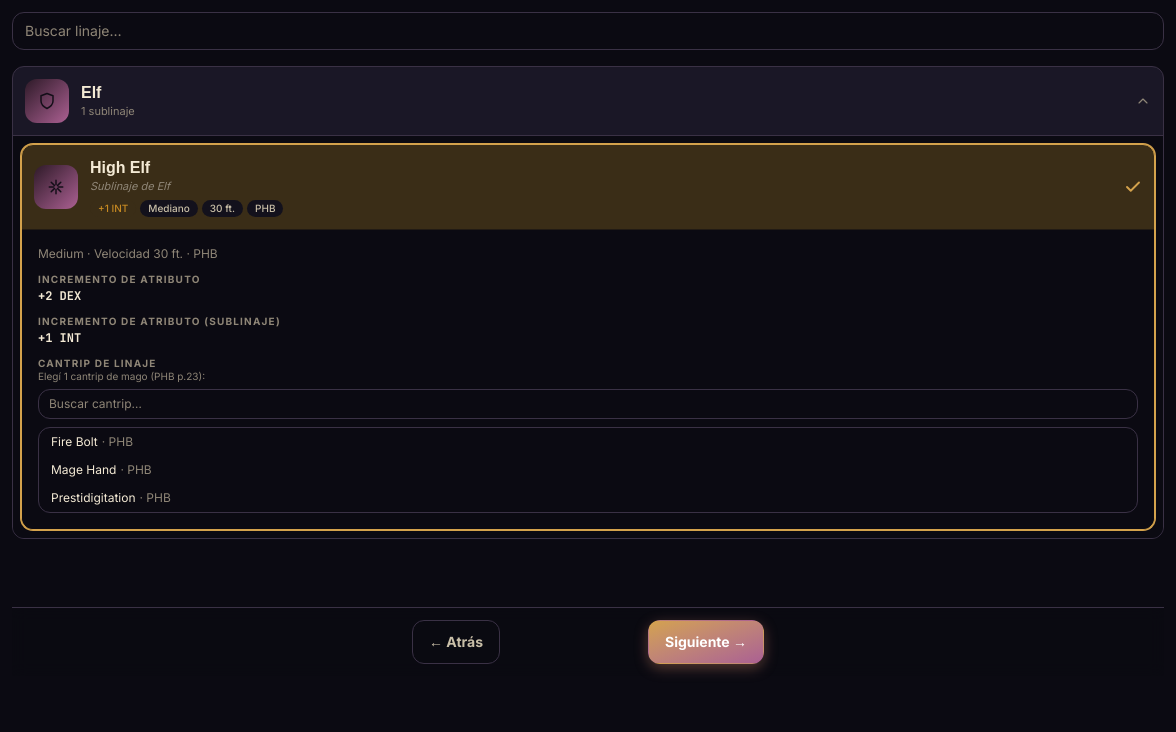
Test: W-D2: handleContinue passes raceCantrip to saveRace; preflight blocks when missing › shows inline error when High Elf is selected but no cantrip is picked
Click the button "Siguiente →": (706, 642) [648,620,764,664]
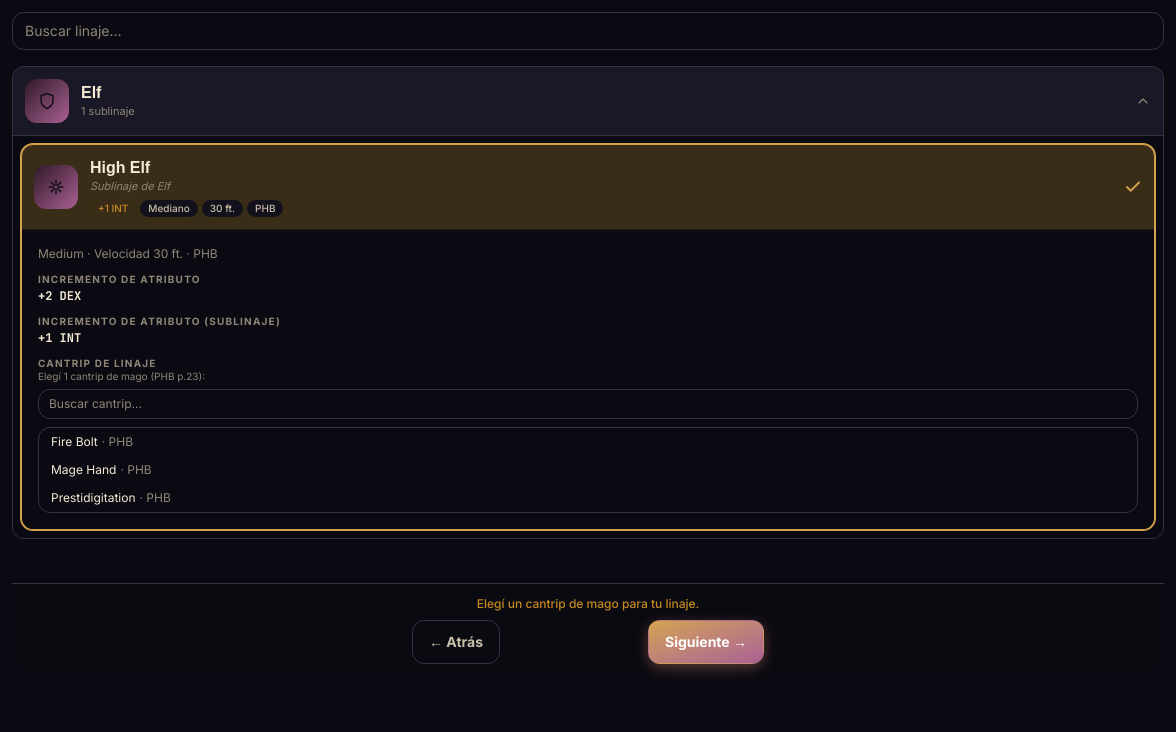
expect the message shows "Elegí un cantrip": met, box [477,596,699,611]
